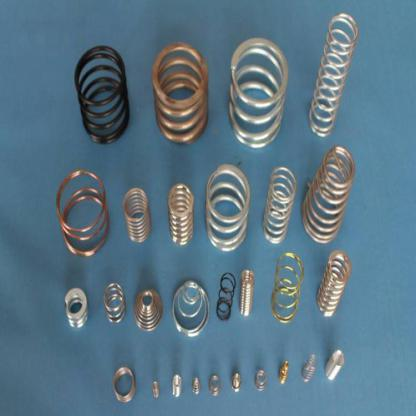FOD: (226, 34, 290, 152), (306, 10, 361, 140), (149, 39, 210, 147), (74, 40, 132, 148), (301, 143, 356, 247), (54, 167, 112, 261), (203, 161, 252, 254), (261, 163, 298, 246), (315, 248, 353, 320), (270, 252, 304, 326), (168, 180, 197, 245), (122, 184, 153, 244), (133, 286, 163, 334), (62, 286, 89, 333), (102, 280, 127, 327), (215, 270, 237, 322), (111, 364, 137, 407), (301, 351, 318, 384), (254, 365, 268, 393), (277, 359, 290, 386), (208, 373, 222, 396)
